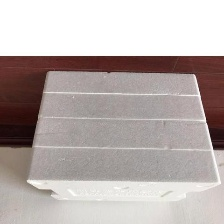foam_box: (20, 66, 222, 207)
